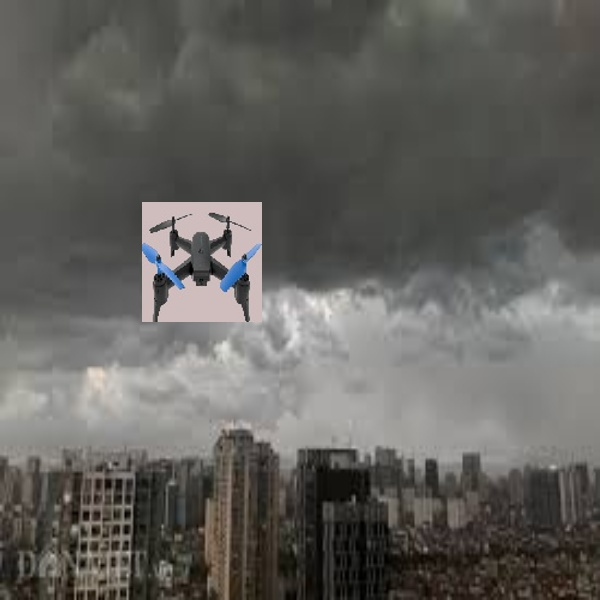drone: (142, 204, 264, 322)
